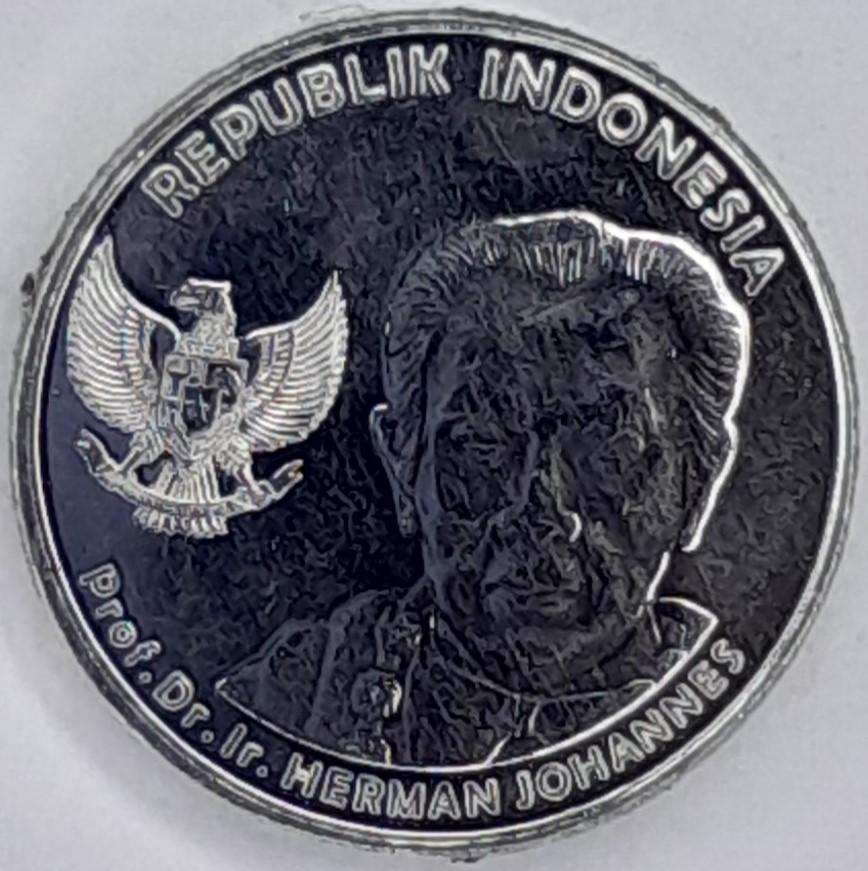coin_100_e2016: (4, 1, 863, 857)
